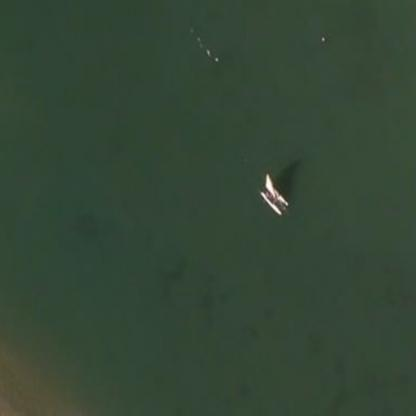ship: (251, 167, 294, 224)
